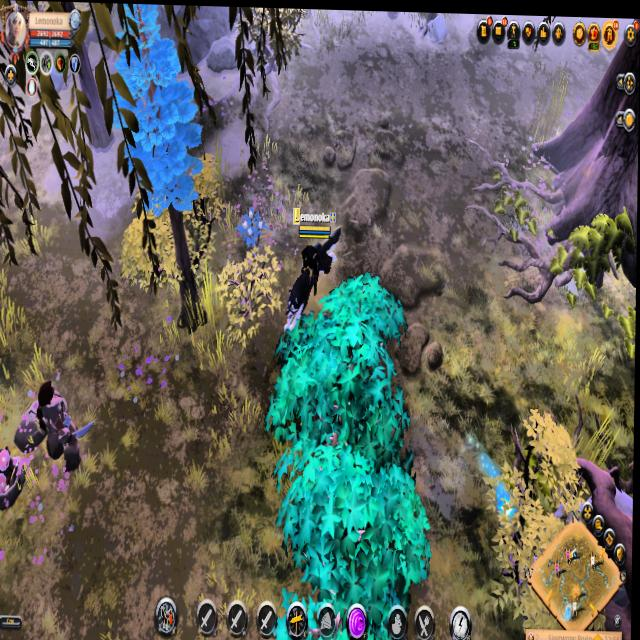fiber tier 4: (237, 206, 269, 252)
wood tier 4: (109, 3, 209, 219)
